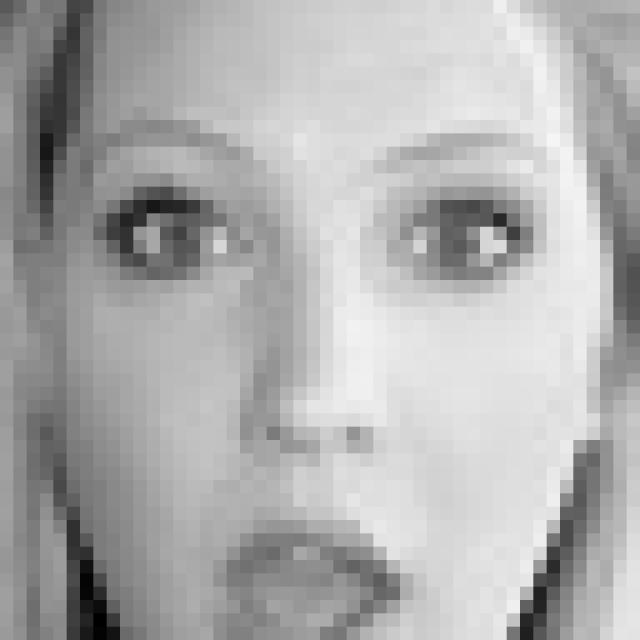surprise: (79, 105, 560, 640)
